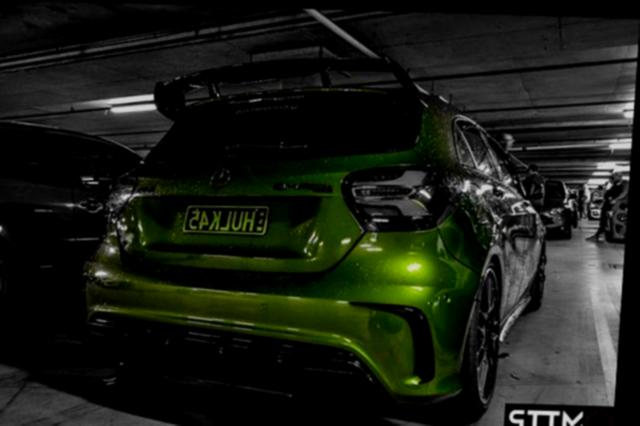License_Plate: (173, 196, 279, 245)
